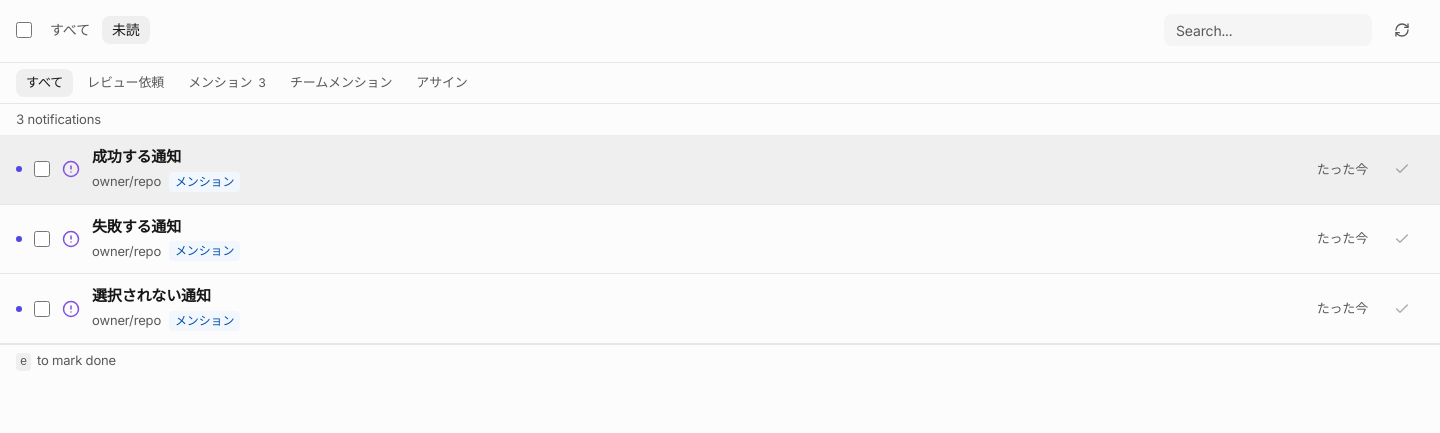
Scenario: InboxList › 一部の項目だけ選択した失敗では失敗した選択項目だけを未処理に数える
Click the checkbox named "成功する通知 を選択": {"x": 42, "y": 169} top-left (34, 161), bottom-right (50, 177)
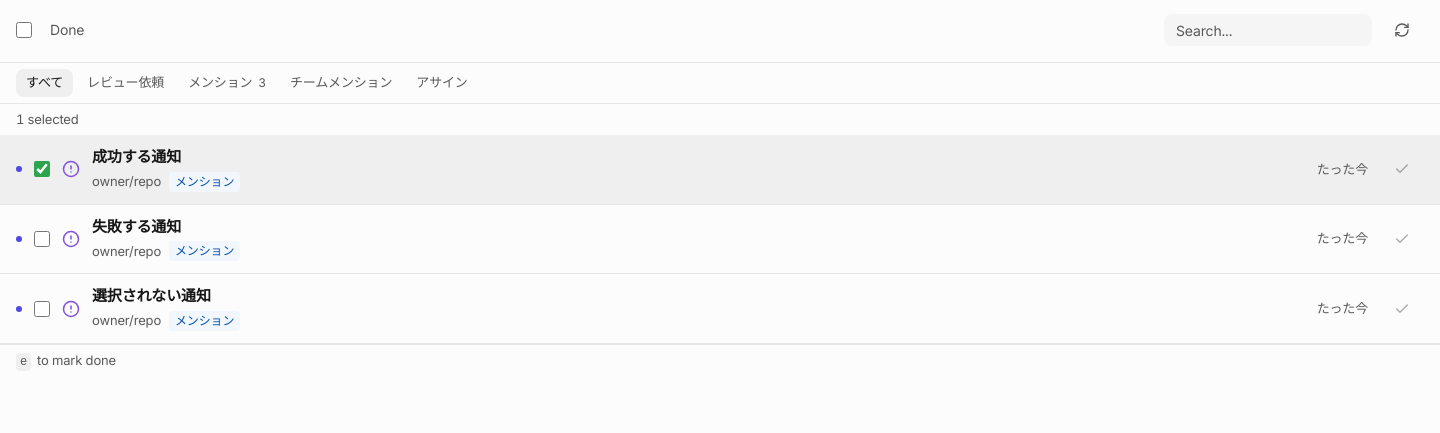
Click the checkbox named "失敗する通知 を選択": {"x": 42, "y": 239} top-left (34, 231), bottom-right (50, 247)
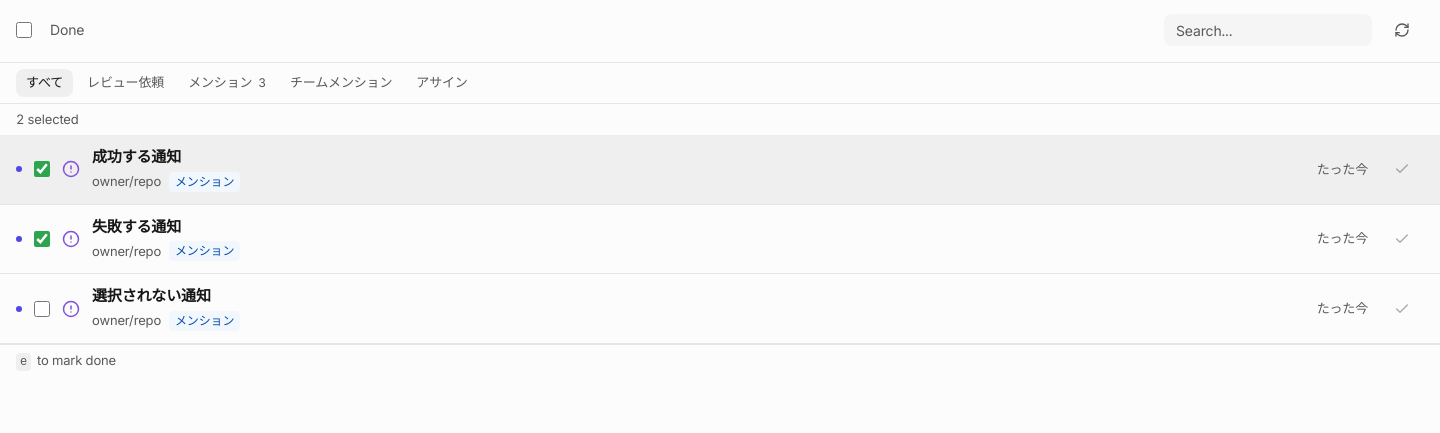
Click the button "Done": {"x": 67, "y": 30} top-left (40, 16), bottom-right (94, 44)
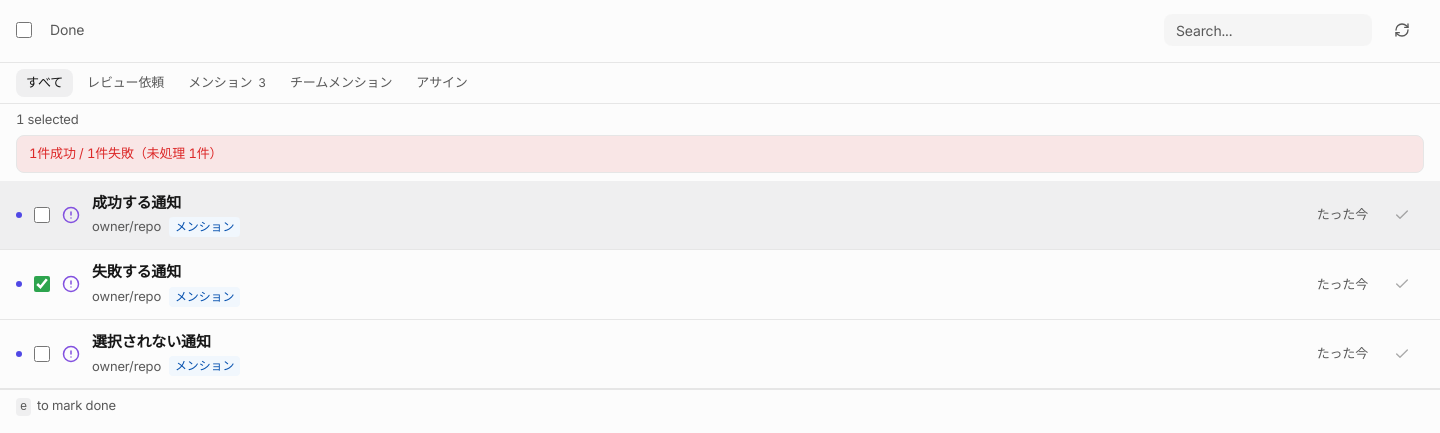
Expected: the checkbox named "選択されない通知 を選択" is not checked, top-left (34, 346), bottom-right (50, 362)
Result: the checkbox named "失敗する通知 を選択" is checked at top-left (34, 276), bottom-right (50, 292)
Result: the message reads "1件成功 / 1件失敗（未処理 1件）" at top-left (29, 145), bottom-right (222, 161)
